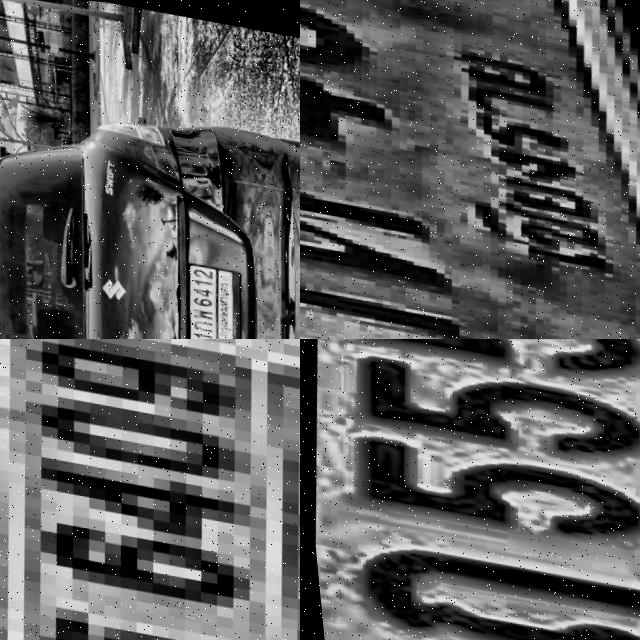license-plate: (300, 0, 640, 339), (300, 339, 640, 640), (0, 339, 300, 640), (169, 253, 239, 339)
